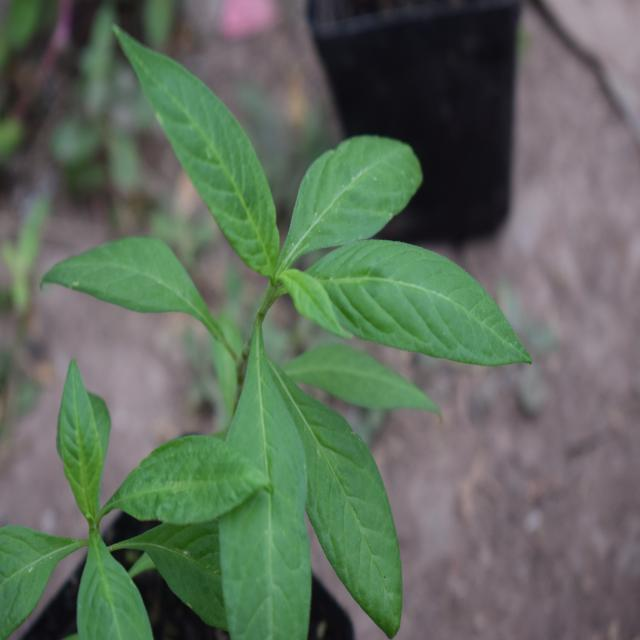white_smart_weed: (129, 25, 507, 623)
